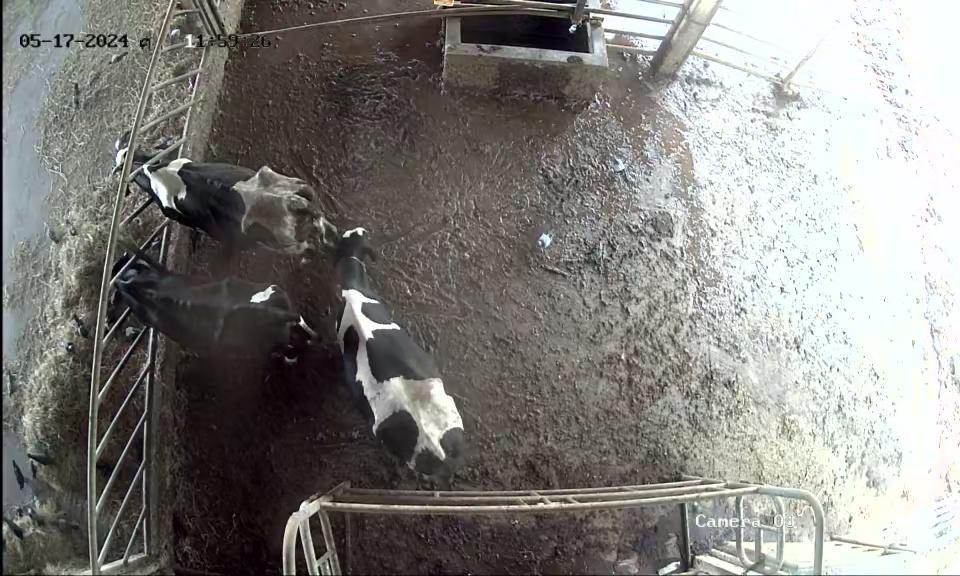eat: (84, 126, 187, 204), (71, 247, 177, 312)
stand: (317, 225, 482, 489)
